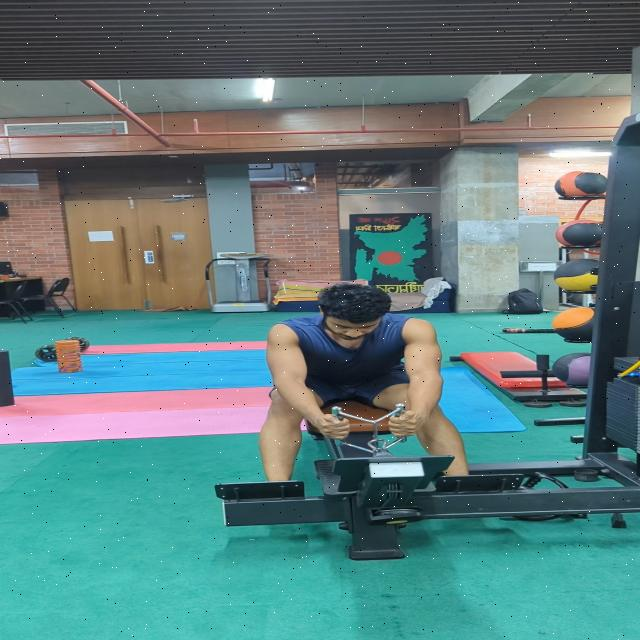Normal_RowingMachineExercise: (259, 283, 472, 484)
